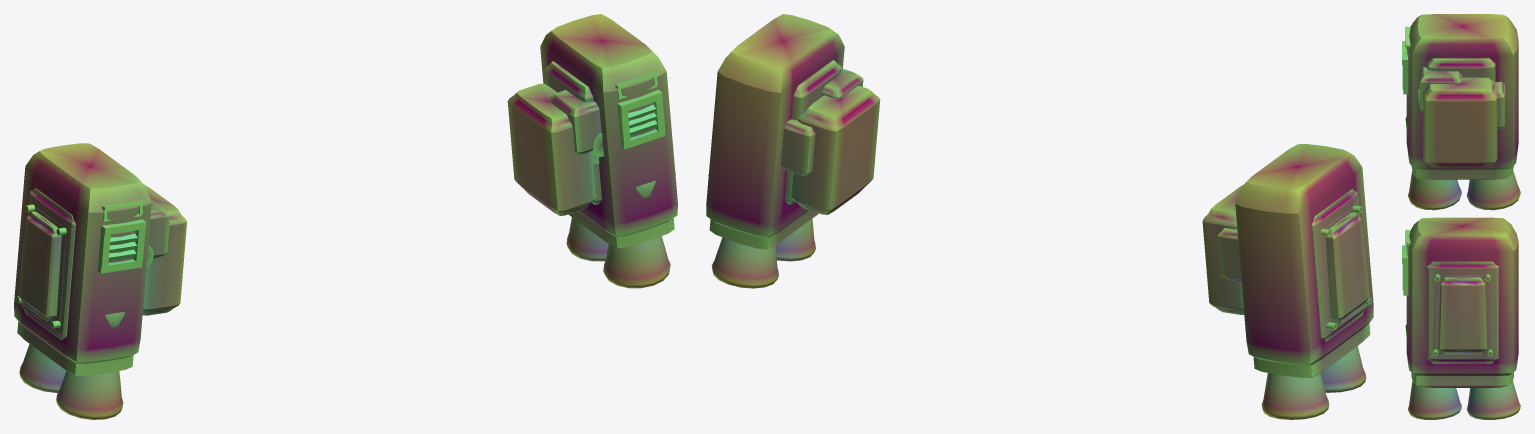
The model's file is llm_gen_leg_thrusters_057_f43e54.glb.
The picture shows the model from 3 angles, left to right: view 1: azimuth 30°, elevation 25°; view 2: azimuth 150°, elevation 25°; view 3: azimuth 270°, elevation 25°; orthographic projection. The views are drawn at different scales.
Visible parts, largest first — view 1: hover_cowling_armor_1_titanium_silver_l, hover_cowling_armor_1_titanium_silver_r, adapter_calf_clamp_r, hover_flank_panel_5_wing_white_l, adapter_calf_clamp_l, hover_bell_fwd_7_vernier_bell_vernier_l, hover_bell_fwd_7_vernier_bell_vernier_r, adapter_sub_hover_flank_dark_4_adapter_dark_l, adapter_leg_knee_mount_dark_9_adapter_dark_r, adapter_sub_hover_manifold_dark_6_adapter_dark_l, adapter_sub_hover_intake_grille_2_dark_r, adapter_sub_hover_intake_grille_2_dark_l (+7 smaller); view 2: hover_cowling_armor_1_titanium_silver_l, hover_cowling_armor_1_titanium_silver_r, adapter_calf_clamp_r, hover_flank_panel_5_wing_white_l, adapter_calf_clamp_l, hover_bell_aft_8_vernier_bell_vernier_l, hover_bell_aft_8_vernier_bell_vernier_r, adapter_sub_hover_flank_dark_4_adapter_dark_l, adapter_leg_tank_collar_dark_10_adapter_dark_r, adapter_sub_hover_manifold_dark_6_adapter_dark_l, hover_core_mount_0_adapter_dark_r, hover_bell_fwd_7_vernier_bell_vernier_l (+4 smaller); view 3: hover_cowling_armor_1_titanium_silver_r, hover_cowling_armor_1_titanium_silver_l, adapter_calf_clamp_l, hover_flank_panel_5_wing_white_r, adapter_sub_hover_flank_dark_4_adapter_dark_r, hover_bell_aft_8_vernier_bell_vernier_r, hover_bell_fwd_7_vernier_bell_vernier_r, hover_bell_aft_8_vernier_bell_vernier_l, hover_bell_fwd_7_vernier_bell_vernier_l, adapter_sub_hover_manifold_dark_6_adapter_dark_r, hover_core_mount_0_adapter_dark_l, adapter_sub_hover_manifold_dark_6_adapter_dark_l (+5 smaller).
Part boxes in pixels (left/top/right/bottom): hover_cowling_armor_1_titanium_silver_l: left=14, top=143, right=151, bottom=363; hover_cowling_armor_1_titanium_silver_r: left=540, top=14, right=677, bottom=236; adapter_calf_clamp_r: left=507, top=83, right=599, bottom=215; hover_flank_panel_5_wing_white_l: left=16, top=204, right=66, bottom=328; adapter_calf_clamp_l: left=142, top=184, right=186, bottom=315; hover_bell_fwd_7_vernier_bell_vernier_l: left=56, top=371, right=123, bottom=419; hover_bell_fwd_7_vernier_bell_vernier_r: left=603, top=236, right=670, bottom=288; adapter_sub_hover_flank_dark_4_adapter_dark_l: left=20, top=188, right=75, bottom=340; adapter_leg_knee_mount_dark_9_adapter_dark_r: left=549, top=90, right=601, bottom=154; adapter_sub_hover_manifold_dark_6_adapter_dark_l: left=17, top=321, right=133, bottom=376; adapter_sub_hover_intake_grille_2_dark_r: left=617, top=89, right=665, bottom=149; adapter_sub_hover_intake_grille_2_dark_l: left=97, top=219, right=146, bottom=273; hover_cowling_armor_1_titanium_silver_l: left=1235, top=144, right=1373, bottom=365; hover_cowling_armor_1_titanium_silver_r: left=706, top=14, right=844, bottom=238; adapter_calf_clamp_r: left=791, top=85, right=880, bottom=214; hover_flank_panel_5_wing_white_l: left=1320, top=205, right=1371, bottom=330; adapter_calf_clamp_l: left=1202, top=184, right=1244, bottom=314; hover_bell_aft_8_vernier_bell_vernier_l: left=1261, top=373, right=1329, bottom=419; hover_bell_aft_8_vernier_bell_vernier_r: left=711, top=237, right=778, bottom=288; adapter_sub_hover_flank_dark_4_adapter_dark_l: left=1311, top=189, right=1367, bottom=341; adapter_leg_tank_collar_dark_10_adapter_dark_r: left=780, top=119, right=815, bottom=176; adapter_sub_hover_manifold_dark_6_adapter_dark_l: left=1253, top=323, right=1370, bottom=377; hover_core_mount_0_adapter_dark_r: left=784, top=60, right=842, bottom=204; hover_bell_fwd_7_vernier_bell_vernier_l: left=1321, top=346, right=1366, bottom=392; hover_cowling_armor_1_titanium_silver_r: left=1406, top=217, right=1518, bottom=375; hover_cowling_armor_1_titanium_silver_l: left=1406, top=14, right=1518, bottom=169; adapter_calf_clamp_l: left=1423, top=77, right=1497, bottom=167; hover_flank_panel_5_wing_white_r: left=1432, top=274, right=1492, bottom=356; adapter_sub_hover_flank_dark_4_adapter_dark_r: left=1426, top=261, right=1498, bottom=363; hover_bell_aft_8_vernier_bell_vernier_r: left=1466, top=381, right=1520, bottom=419; hover_bell_fwd_7_vernier_bell_vernier_r: left=1408, top=381, right=1461, bottom=419; hover_bell_aft_8_vernier_bell_vernier_l: left=1466, top=170, right=1520, bottom=210; hover_bell_fwd_7_vernier_bell_vernier_l: left=1408, top=171, right=1461, bottom=210; adapter_sub_hover_manifold_dark_6_adapter_dark_r: left=1411, top=372, right=1513, bottom=387; hover_core_mount_0_adapter_dark_l: left=1426, top=58, right=1495, bottom=82; adapter_sub_hover_manifold_dark_6_adapter_dark_l: left=1411, top=166, right=1513, bottom=179.
Size of the model in its own units: 86.05 by 29.84 by 17.61.
